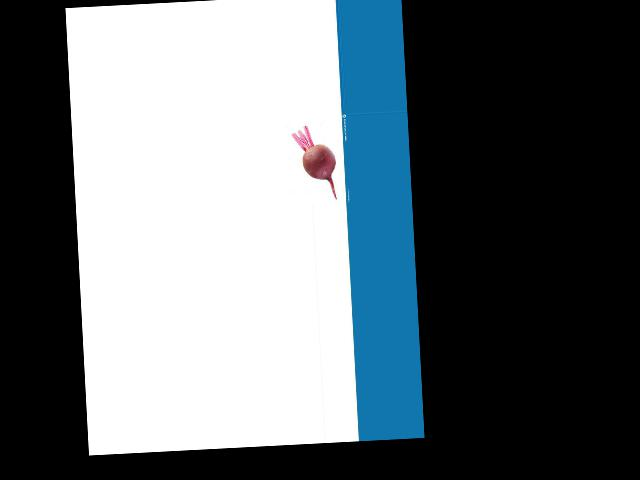beet: (292, 124, 337, 201)
